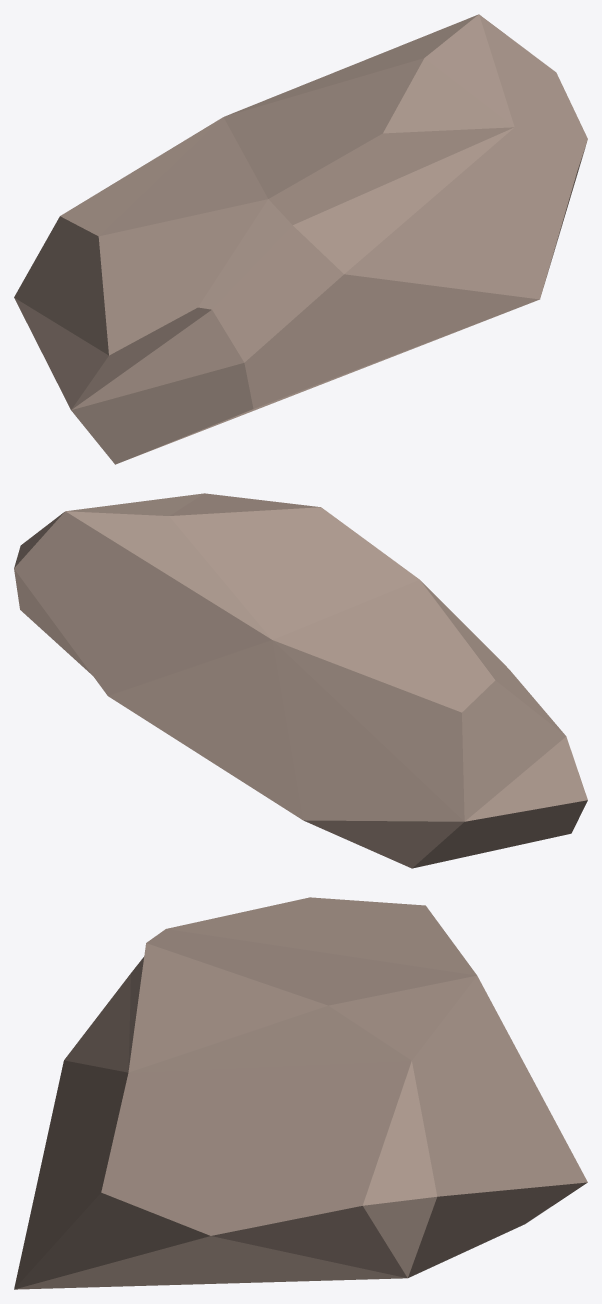
File: Rock.fbx
3 renders of one model, top to bottom at view 1: azimuth 30°, elevation 25°; view 2: azimuth 150°, elevation 25°; view 3: azimuth 270°, elevation 25°, orthographic. The views are drawn at different scales.
Parts seen in each view (by area): view 1: polySurface580; view 2: polySurface580; view 3: polySurface580.
Boxes of the visible parts, x1,y1,x2,y2 form: polySurface580: [14, 14, 587, 464]; polySurface580: [14, 493, 587, 868]; polySurface580: [14, 897, 587, 1289].
Bounding box in the file's own units: 0.0175 × 0.00887 × 0.0103.
